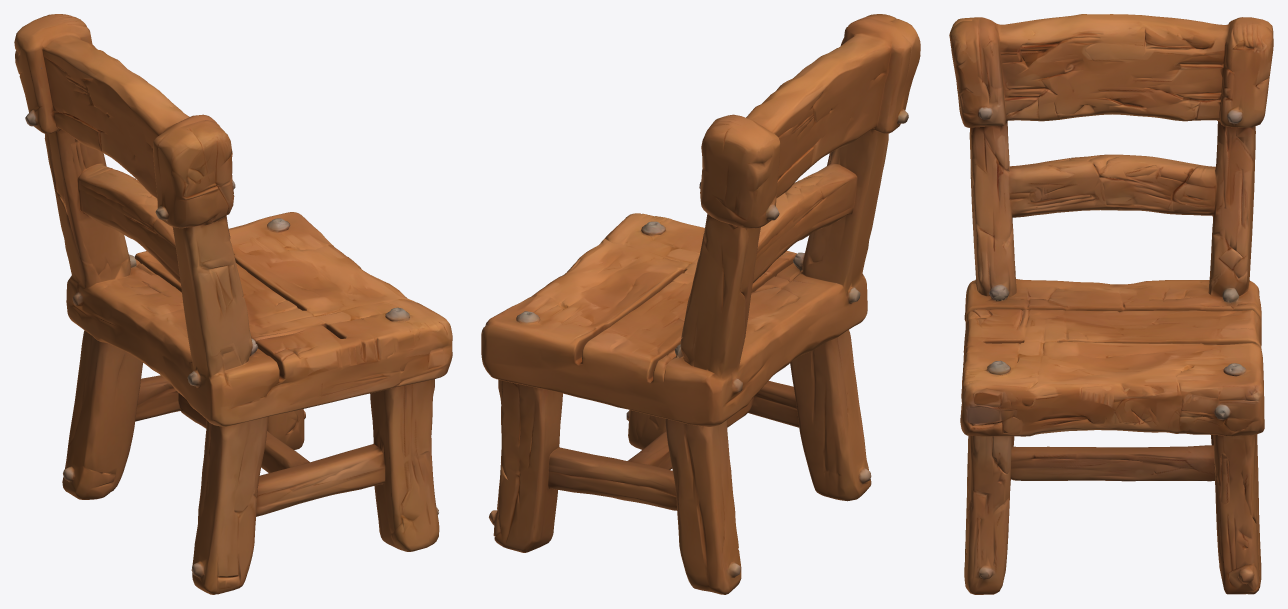
The model's file is chair.glb.
The picture shows the model from 3 angles, left to right: view 1: azimuth 30°, elevation 25°; view 2: azimuth 150°, elevation 25°; view 3: azimuth 270°, elevation 25°; orthographic projection. The views are drawn at different scales.
Visible parts, largest first — view 1: tripo_node_ead2460b-af37-44a7-889a-39aefa694491; view 2: tripo_node_ead2460b-af37-44a7-889a-39aefa694491; view 3: tripo_node_ead2460b-af37-44a7-889a-39aefa694491.
Boxes of the visible parts, x1,y1,x2,y2 form: tripo_node_ead2460b-af37-44a7-889a-39aefa694491: (14, 14, 452, 594); tripo_node_ead2460b-af37-44a7-889a-39aefa694491: (481, 14, 920, 594); tripo_node_ead2460b-af37-44a7-889a-39aefa694491: (949, 14, 1273, 594).
Bounding box in the file's own units: 0.6245 × 0.9801 × 0.6212.
Materials: 1 (1 with a texture image).
